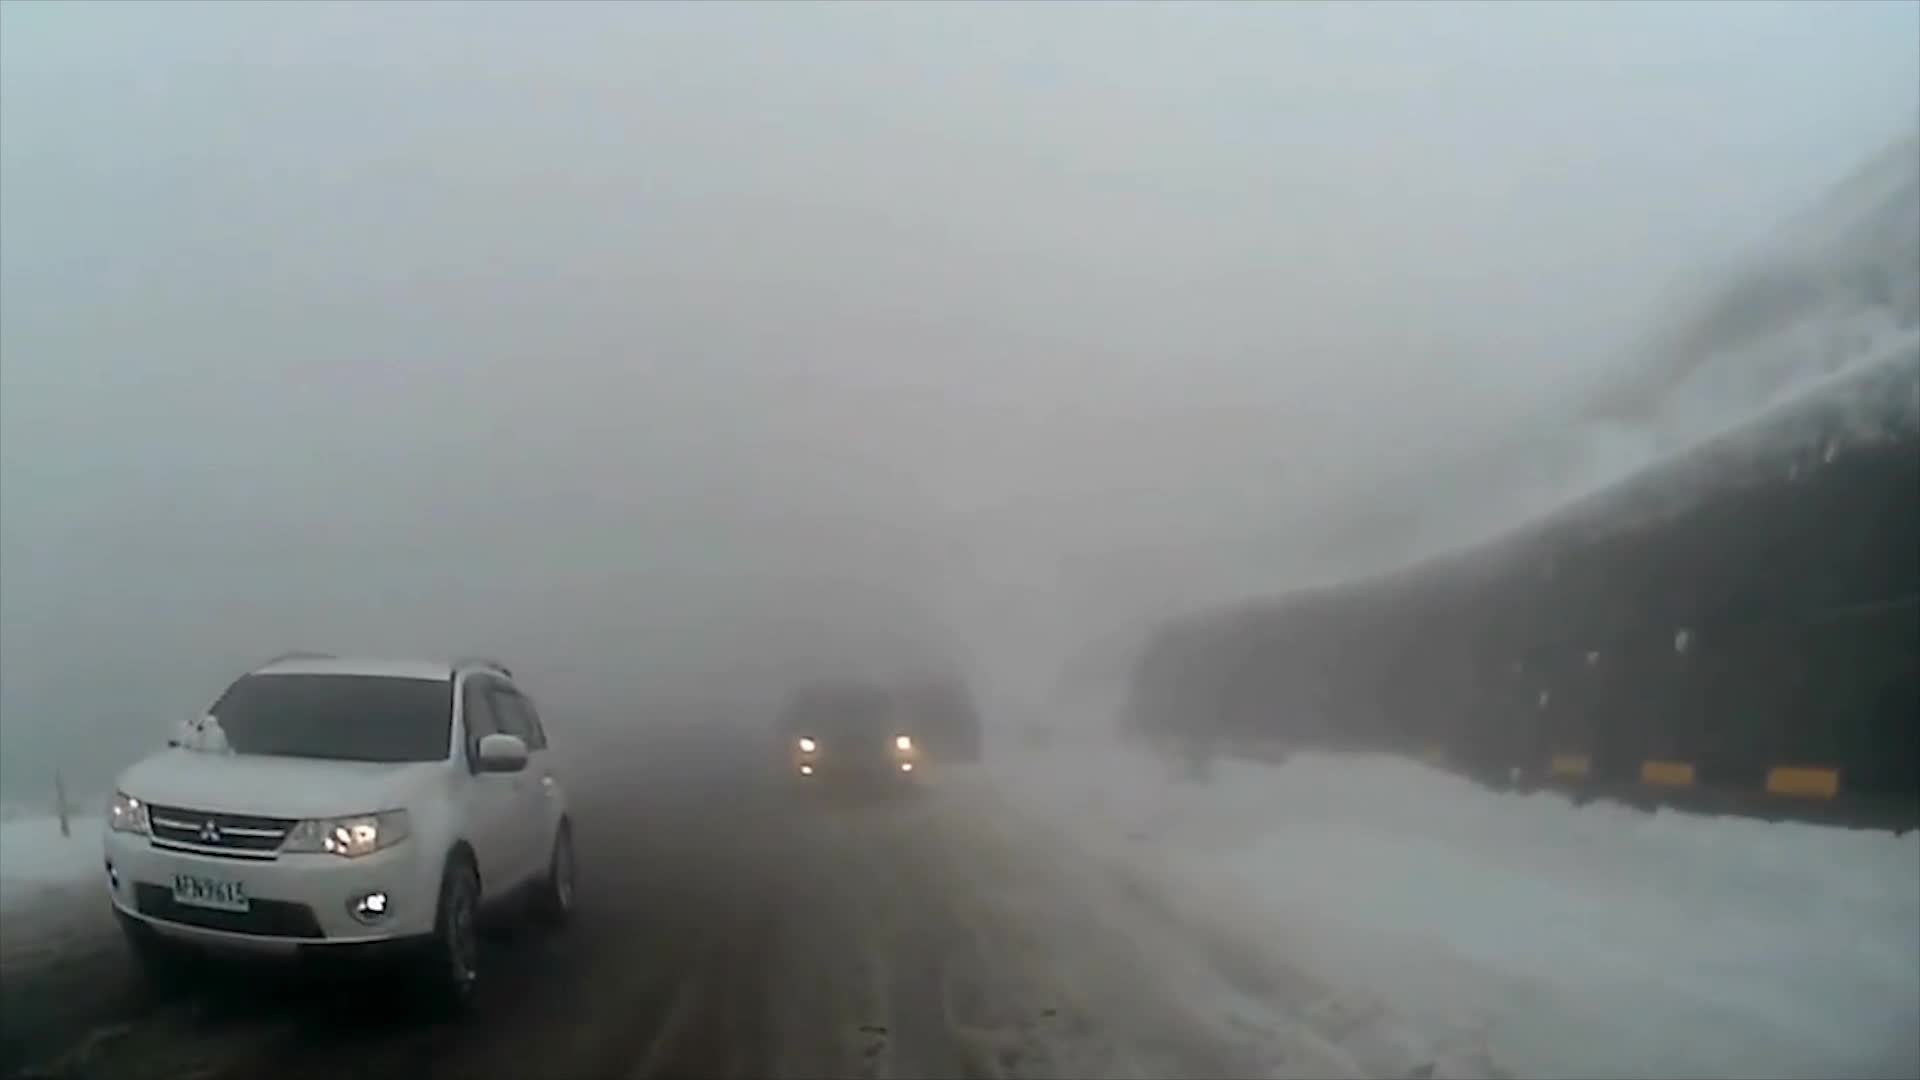vehicle: (98, 645, 576, 1004), (774, 679, 916, 802)
